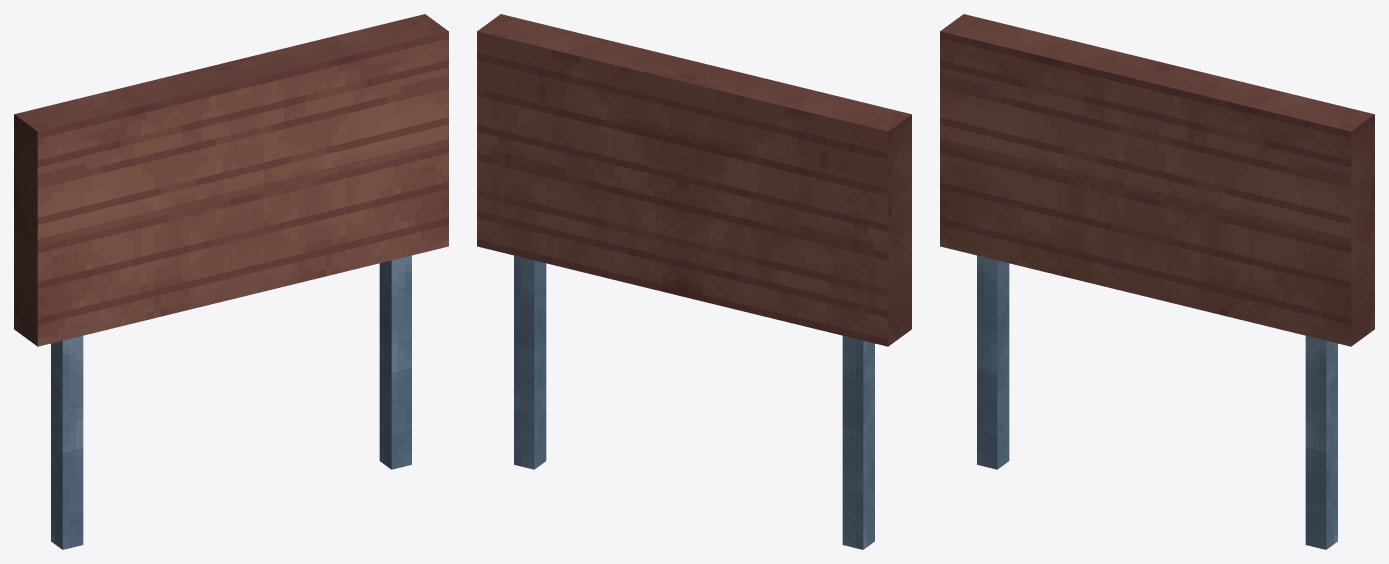
Rendered from photoBoard.fbx.
The picture shows the model from 3 angles, left to right: view 1: azimuth 30°, elevation 25°; view 2: azimuth 150°, elevation 25°; view 3: azimuth 330°, elevation 25°; orthographic projection.
Parts seen in each view (by area): view 1: Cube; view 2: Cube; view 3: Cube.
Part boxes in pixels (bbox=[...]): Cube: bbox=[14, 14, 448, 549]; Cube: bbox=[477, 14, 911, 549]; Cube: bbox=[940, 14, 1374, 549].
Size of the model in its own units: 400 by 40 by 400.
1 material, 1 textured.
